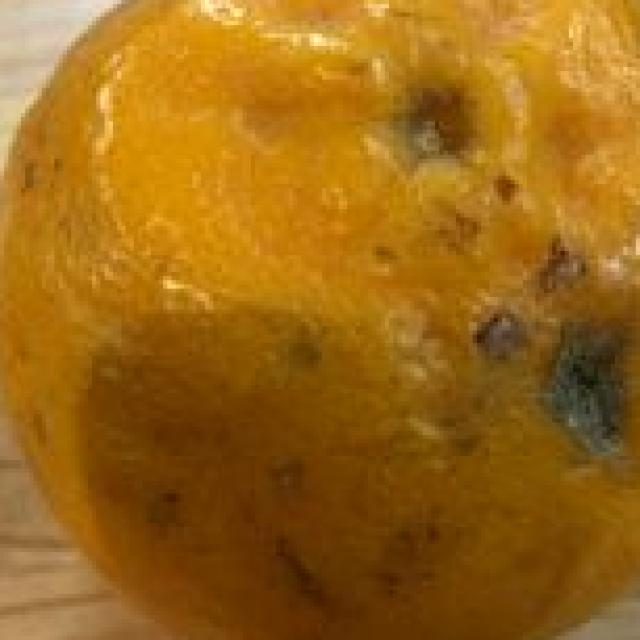Bad_Orange-0-1 day: (0, 0, 640, 640)
